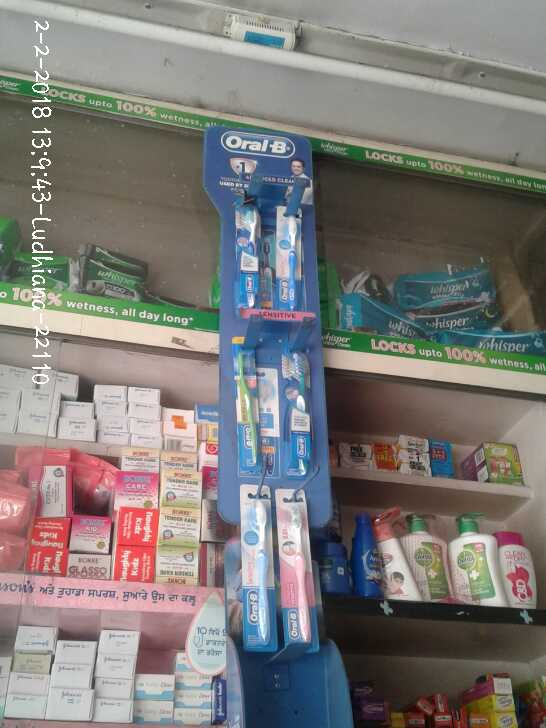pharmacy: (281, 496, 320, 644), (79, 239, 165, 306), (242, 487, 274, 642), (228, 337, 262, 477), (279, 346, 313, 473), (392, 269, 502, 305), (233, 204, 267, 314), (271, 218, 309, 313)
